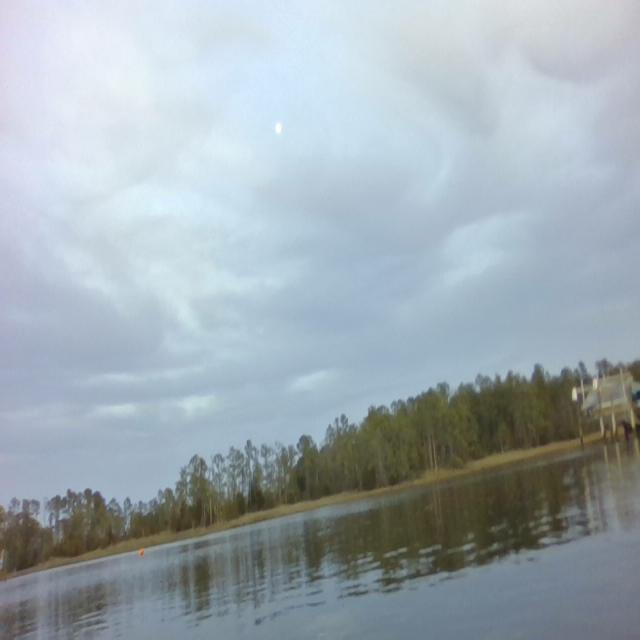Buoy: (138, 546, 145, 558)
